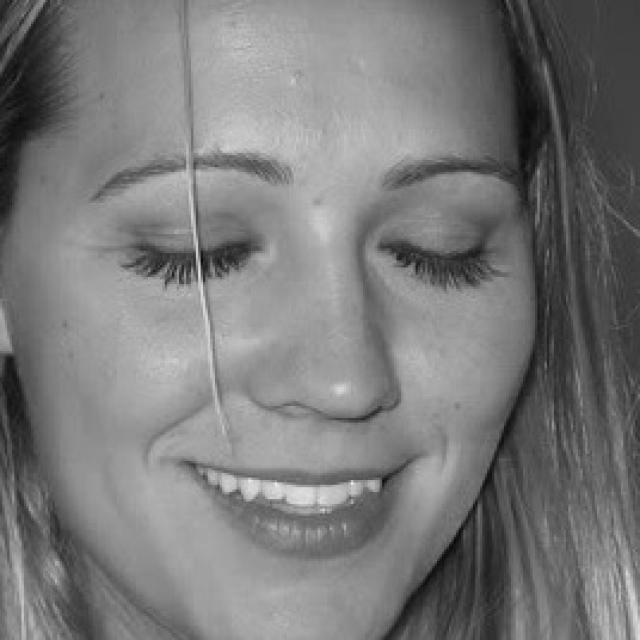real: (18, 0, 540, 640), (113, 198, 502, 317)
